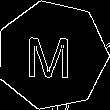M_N: (29, 30, 76, 81)
